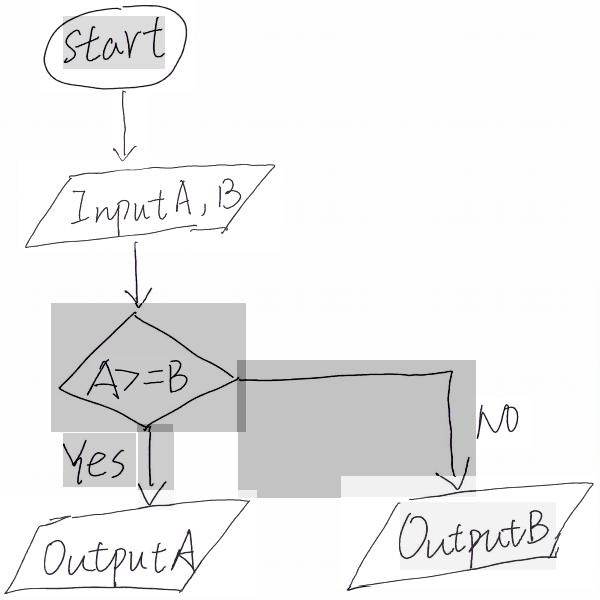arrow: (238, 360, 476, 498), (138, 424, 174, 510), (122, 236, 159, 318), (111, 91, 148, 171)
data: (342, 477, 597, 586), (0, 491, 257, 596), (19, 156, 281, 250)
decision: (52, 303, 246, 432)
terminator: (39, 0, 195, 91)
text: (46, 522, 202, 590), (400, 503, 556, 571), (69, 173, 241, 227), (64, 16, 166, 69), (92, 355, 189, 402), (63, 433, 136, 488), (471, 397, 532, 449)
